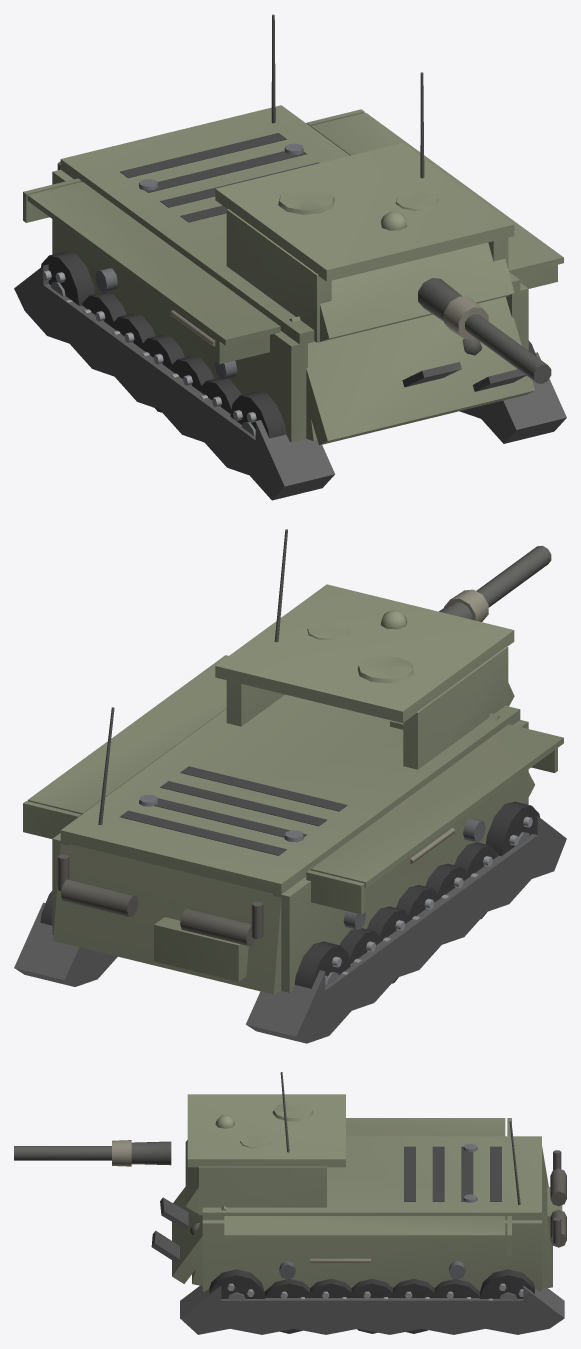
The picture shows the model from 3 angles, top to bottom: view 1: azimuth 30°, elevation 25°; view 2: azimuth 150°, elevation 25°; view 3: azimuth 270°, elevation 25°; orthographic projection. The views are drawn at different scales.
Visible parts, largest first — view 1: hullSide, turretRoof, hullTop, tracks, glacis, mantlet, turretSide, barrel, wheel6, wheel5, wheel2, wheel0 (+3 smaller); view 2: hullTop, hullSide, turretRoof, hullRear, tracks, turretSide, barrel, wheel5, wheel6, wheel3, wheel1, wheel4 (+2 smaller); view 3: hullSide, hullTop, tracks, turretRoof, turretSide, barrel, glacis, hullRear, wheel13, wheel12, wheel11, wheel8 (+4 smaller).
Boxes of the visible parts, left/top/right/bottom form: hullSide: left=23, top=109, right=563, bottom=442; turretRoof: left=215, top=72, right=514, bottom=281; hullTop: left=60, top=105, right=520, bottom=344; tracks: left=14, top=264, right=566, bottom=500; glacis: left=289, top=297, right=534, bottom=445; mantlet: left=320, top=242, right=514, bottom=341; turretSide: left=226, top=209, right=508, bottom=342; barrel: left=418, top=278, right=551, bottom=383; wheel6: left=41, top=251, right=95, bottom=305; wheel5: left=230, top=391, right=286, bottom=438; wheel2: left=140, top=334, right=184, bottom=412; wheel0: left=82, top=292, right=126, bottom=328; hullTop: left=60, top=694, right=520, bottom=894; hullSide: left=23, top=655, right=563, bottom=992; turretRoof: left=215, top=529, right=514, bottom=722; hullRear: left=53, top=707, right=281, bottom=994; tracks: left=14, top=814, right=566, bottom=1043; turretSide: left=226, top=646, right=508, bottom=769; barrel: left=439, top=545, right=551, bottom=621; wheel5: left=486, top=801, right=539, bottom=856; wheel6: left=294, top=941, right=350, bottom=988; wheel3: left=425, top=863, right=469, bottom=901; wheel1: left=367, top=906, right=411, bottom=983; wheel4: left=454, top=842, right=498, bottom=919; hullSide: left=202, top=1118, right=541, bottom=1291; hullTop: left=202, top=1136, right=541, bottom=1220; tracks: left=180, top=1261, right=564, bottom=1334; turretRoof: left=187, top=1072, right=345, bottom=1167; turretSide: left=199, top=1166, right=326, bottom=1215; barrel: left=14, top=1140, right=171, bottom=1166; glacis: left=151, top=1187, right=227, bottom=1283; hullRear: left=509, top=1121, right=566, bottom=1288; wheel13: left=479, top=1269, right=534, bottom=1300; wheel12: left=209, top=1269, right=264, bottom=1299; wheel11: left=265, top=1279, right=313, bottom=1333; wheel8: left=389, top=1278, right=437, bottom=1333.
Size of the model in its own units: 3.68 by 3.5 by 7.33.
